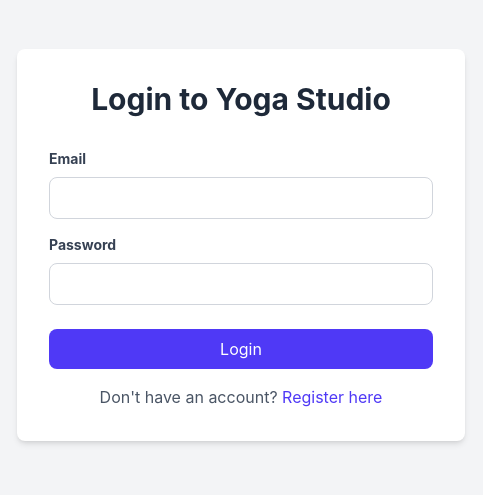
Test: Login › should display server error message on AxiosError
Step 1. Type "wrong@email.com" into the field labelled "Email" → (241, 198), box [49,177,433,219]
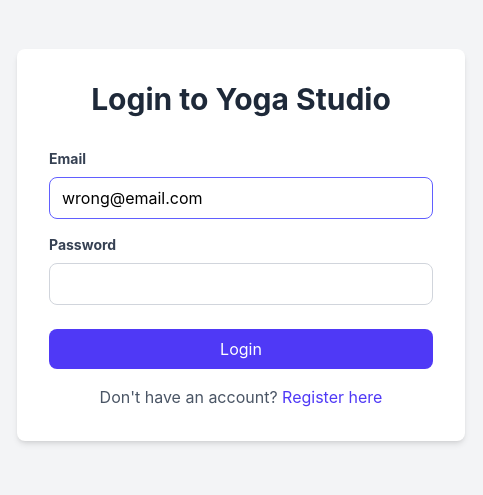
Step 2. Type "wrongpassword" into the password field labelled "Password" → (241, 284), box [49,263,433,305]
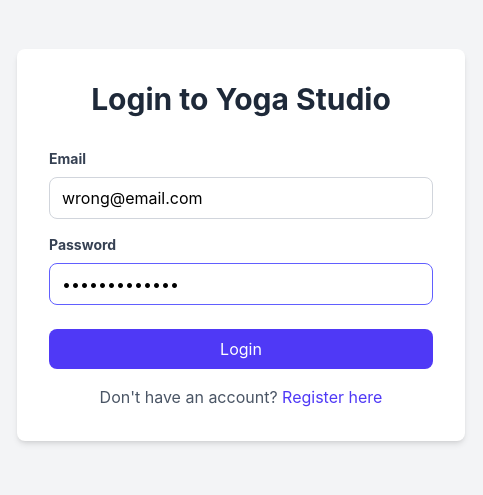
Step 3. Click the button "Login" → (241, 349), box [49,329,433,369]
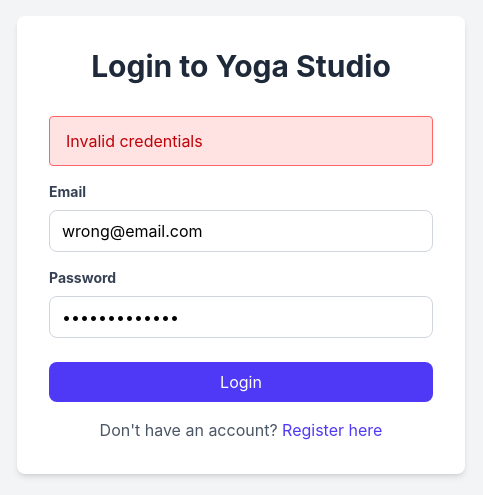
Check: the text "Invalid credentials" is shown, box [49,116,433,166]
